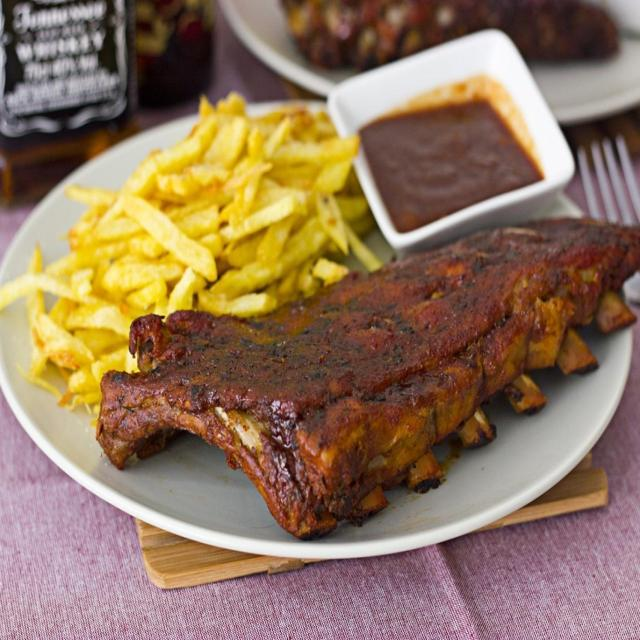carne de cerdo: (100, 211, 640, 542)
papa: (15, 94, 363, 384)
